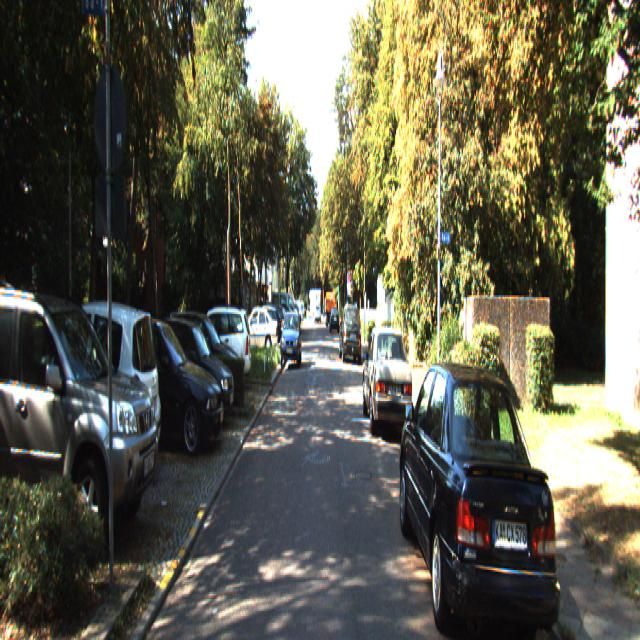Car: (395, 346, 569, 638), (0, 255, 162, 559), (22, 294, 164, 480), (93, 302, 225, 457), (140, 311, 236, 431), (176, 303, 251, 390), (362, 325, 414, 440), (235, 305, 278, 354), (339, 300, 361, 362), (279, 311, 301, 368)
